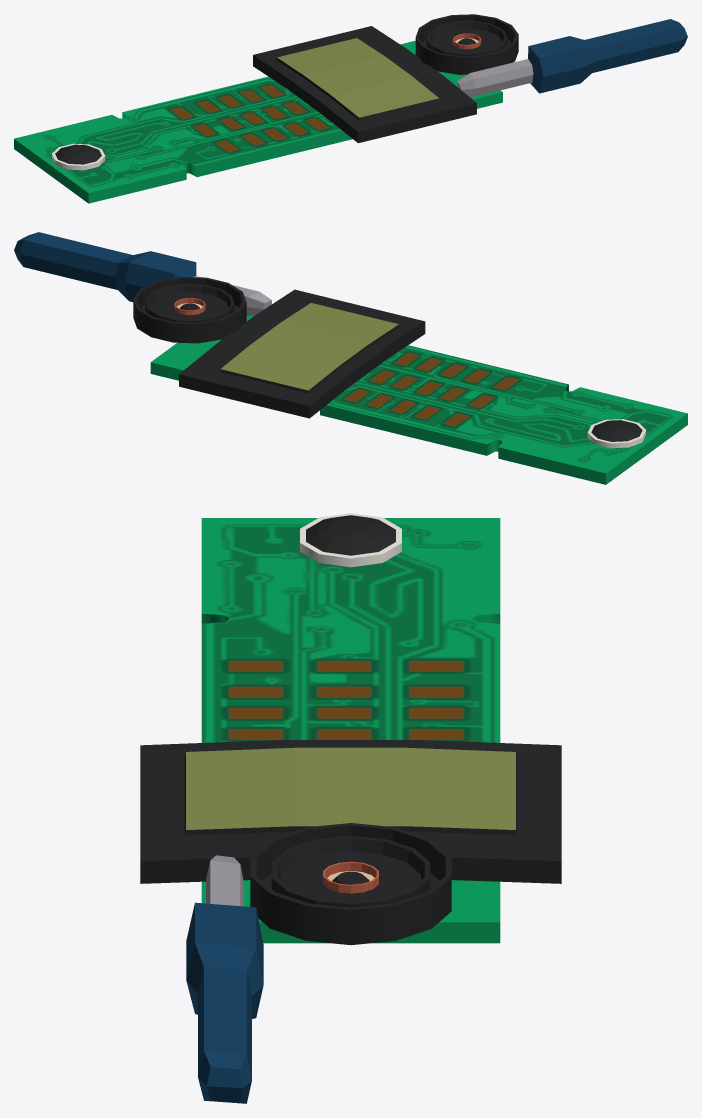
File: Cellphone module.fbx
3 renders of one model, top to bottom at view 1: azimuth 30°, elevation 25°; view 2: azimuth 150°, elevation 25°; view 3: azimuth 270°, elevation 25°, orthographic. The views are drawn at different scales.
Visible parts, largest first — view 1: cell_phone_module; view 2: cell_phone_module; view 3: cell_phone_module.
Boxes of the visible parts, x1,y1,x2,y2 form: cell_phone_module: (14, 14, 687, 203); cell_phone_module: (14, 232, 687, 484); cell_phone_module: (140, 513, 561, 1103).
Bounding box in the file's own units: 1.39 × 0.0861 × 0.4213.
